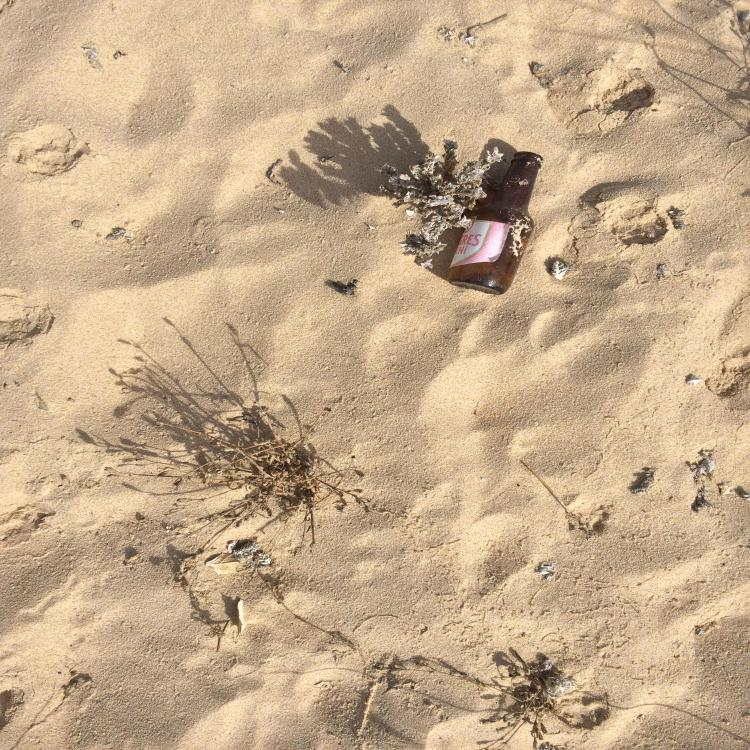Glass bottle: (448, 151, 543, 295)
